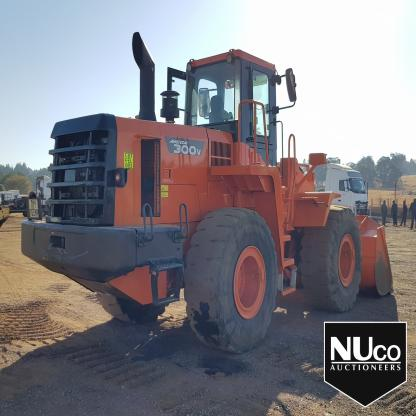bull_dozer/loader/grader: (17, 37, 408, 356)
